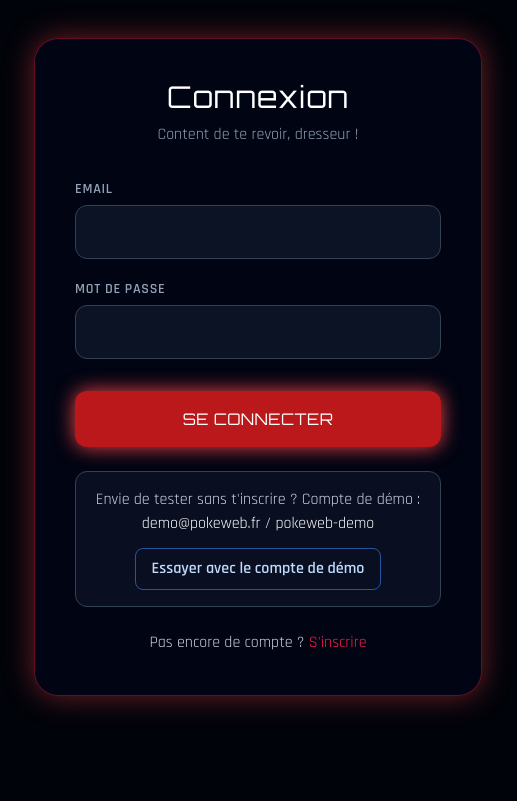
Scenario: LoginPage › affiche une erreur si le mot de passe est faux
In the field labelled "Email": [258, 232] box [75,205,441,259], type "sacha@pokeweb.fr"
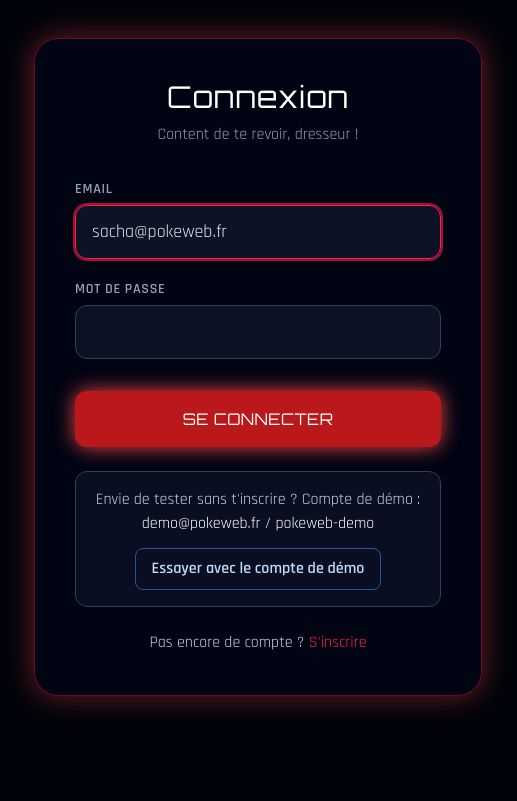
In the password field labelled "Mot de passe": [258, 332] box [75,305,441,359], type "pikachu123"
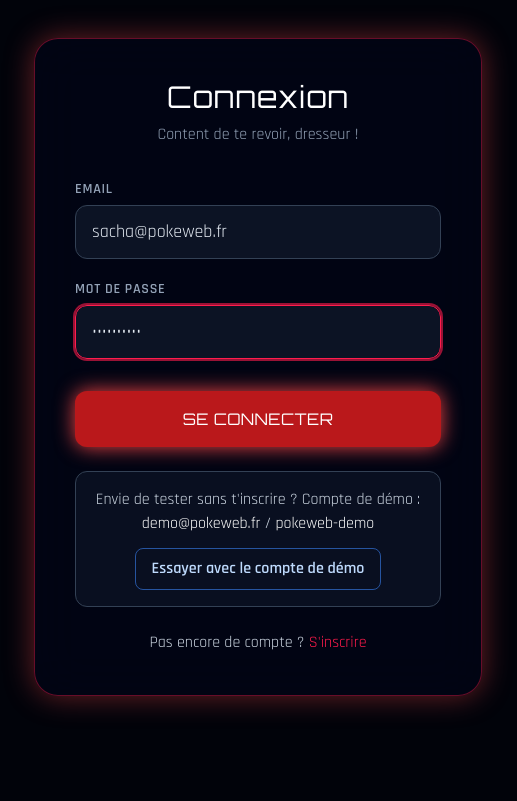
Click the button "Se connecter": [258, 419] box [75,391,441,447]
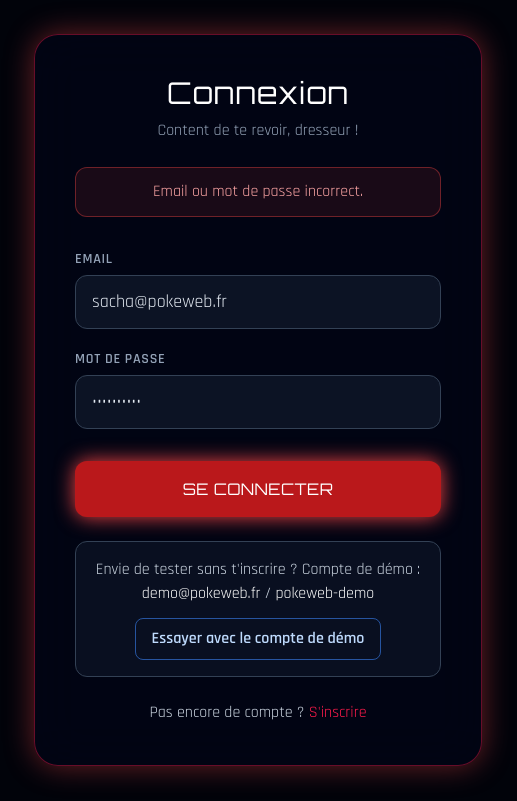
Check: the message reads "Email ou mot de passe incorrect.", box [153,181,363,202]
